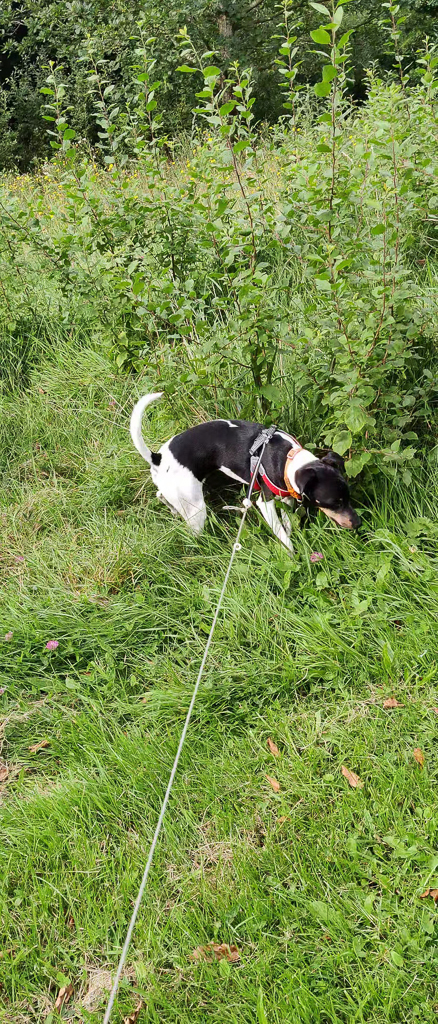Dog: (123, 378, 379, 574)
